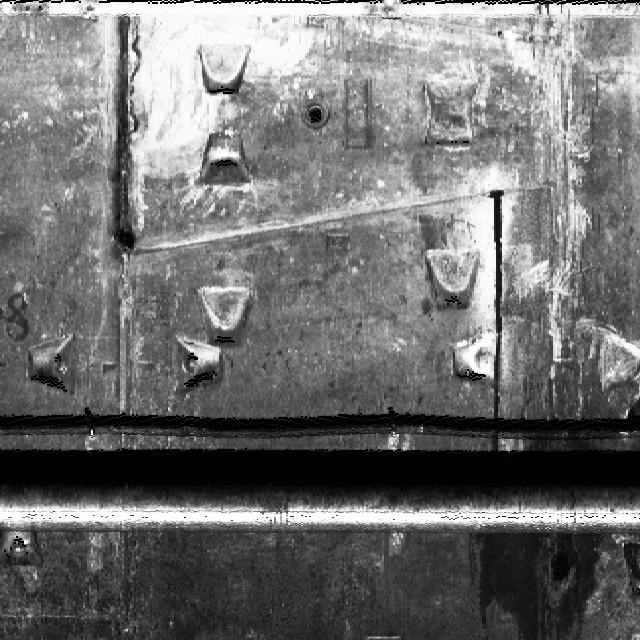leakage: (468, 521, 620, 639), (519, 408, 609, 450)
